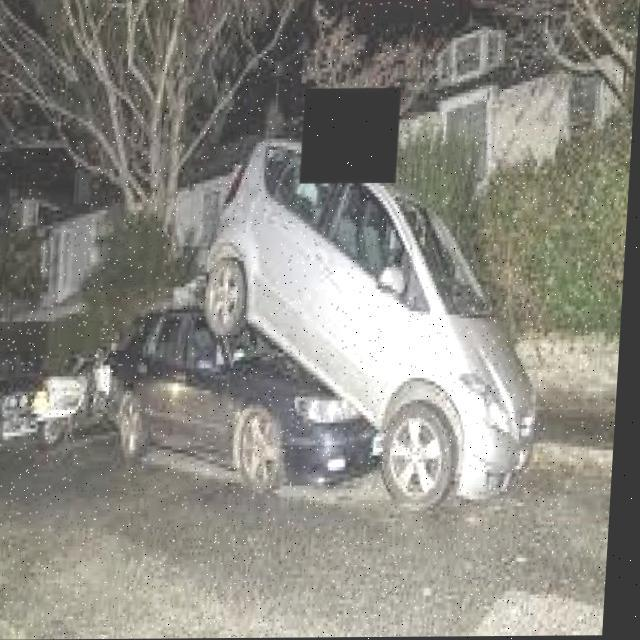multiple_accident: (126, 134, 559, 501)
